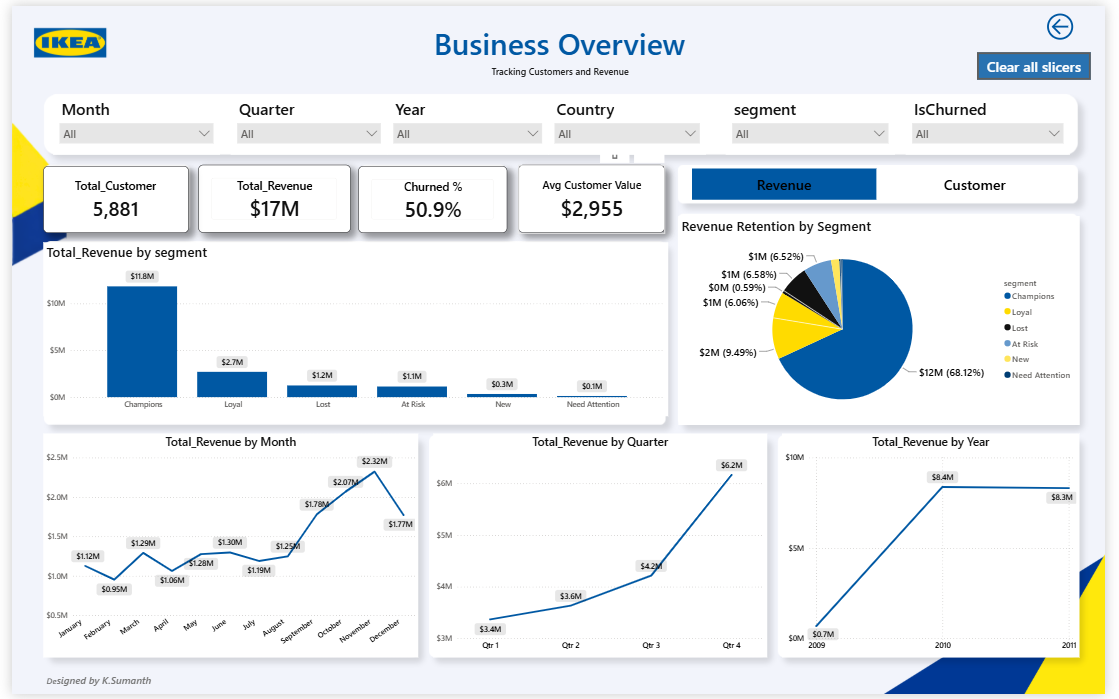

This screenshot's page, from the dashboard's own definition file:
{"tool":"powerbi","page":{"name":"Overview","canvas":[1750,1100],"ordinal":1},"visuals":[{"type":"cardVisual","fields":{"Data":["Sheet1.Total_Revenue"]},"box":[298.2,254.5,243.6,109.1],"z":0},{"type":"columnChart","fields":{"Category":["Sheet1.segment"],"Y":["Sheet1.Total_Revenue"]},"box":[50,378,1000,278],"z":0,"group":"g1"},{"type":"cardVisual","fields":{"Data":["Sheet1.Churned %"]},"box":[554.5,256.4,238.2,107.3],"z":1000},{"type":"pieChart","title":"Revenue Retention by Segment","fields":{"Category":["Sheet1.segment"],"Series":["Sheet1.IsChurned"],"Y":["Sheet1.Total_Revenue"]},"box":[1066,336,642,334],"z":1000,"group":"g1"},{"type":"cardVisual","fields":{"Data":["Sheet1.Total_Customer"]},"box":[50.9,256.4,232.7,107.3],"z":2000},{"type":"lineChart","fields":{"Y":["Sheet1.Total_Revenue"],"Category":["Sheet1.InvoiceDate.Variation.Date Hierarchy.Month"]},"box":[50,684,600,358],"z":2000,"group":"g1"},{"type":"cardVisual","fields":{"Data":["Sheet1.avg customer value"]},"box":[810.9,254.5,234.5,109.1],"z":3000},{"type":"lineChart","fields":{"Category":["Sheet1.InvoiceDate.Variation.Date Hierarchy.Year"],"Y":["Sheet1.Total_Revenue"]},"box":[1232,684,476,358],"z":3000,"group":"g1"},{"type":"slicer","fields":{"Values":["Sheet1.InvoiceDate.Variation.Date Hierarchy.Month"]},"box":[66,142,266,96],"z":4000},{"type":"lineChart","fields":{"Y":["Sheet1.Total_Revenue"],"Category":["Sheet1.InvoiceDate.Variation.Date Hierarchy.Quarter"]},"box":[674,684,534,358],"z":4000,"group":"g1"},{"type":"slicer","fields":{"Values":["Sheet1.InvoiceDate.Variation.Date Hierarchy.Quarter"]},"box":[350,142,250,96],"z":5000},{"type":"slicer","fields":{"Values":["Sheet1.InvoiceDate.Variation.Date Hierarchy.Year"]},"box":[600,142,258,96],"z":6000},{"type":"slicer","fields":{"Values":["Sheet1.Country"]},"box":[858,142,252,96],"z":7000},{"type":"slicer","fields":{"Values":["Sheet1.segment"]},"box":[1142,142,270,96],"z":8000},{"type":"slicer","fields":{"Values":["Sheet1.IsChurned"]},"box":[1430,142,262,96],"z":9000},{"type":"group","id":"g1","title":"Revenue","box":[50,336,1658,706],"z":11000},{"type":"bookmarkNavigator","box":[1088,260,600,50],"z":12000},{"type":"image","box":[18,0,150,118],"z":13000},{"type":"textbox","box":[575,22,600,142],"z":14000},{"type":"actionButton","box":[1650,6,100,54],"z":15000},{"type":"actionButton","box":[1544,74,182,44],"z":16000},{"type":"textbox","title":"Tracking Customers and Revenue","box":[762,94,414,24],"z":17000},{"type":"textbox","box":[50,1062,550,38],"z":18000}]}

Visuals, with their boxes in screenshot pixels (x1, y1, x2, y2), scaled from the page's 1750x1100 canvas onto the 1119x699 screenshot:
cardVisual - Sheet1.Total_Revenue: [left=191, top=162, right=346, bottom=231]
columnChart - Sheet1.segment x Sheet1.Total_Revenue: [left=32, top=240, right=671, bottom=417]
cardVisual - Sheet1.Churned %: [left=355, top=163, right=507, bottom=231]
"Revenue Retention by Segment" pieChart: [left=682, top=214, right=1092, bottom=426]
cardVisual - Sheet1.Total_Customer: [left=33, top=163, right=181, bottom=231]
lineChart - Sheet1.Total_Revenue x Sheet1.InvoiceDate.Variation.Date Hierarchy.Month: [left=32, top=435, right=416, bottom=662]
cardVisual - Sheet1.avg customer value: [left=519, top=162, right=668, bottom=231]
lineChart - Sheet1.InvoiceDate.Variation.Date Hierarchy.Year x Sheet1.Total_Revenue: [left=788, top=435, right=1092, bottom=662]
slicer - Sheet1.InvoiceDate.Variation.Date Hierarchy.Month: [left=42, top=90, right=212, bottom=151]
lineChart - Sheet1.Total_Revenue x Sheet1.InvoiceDate.Variation.Date Hierarchy.Quarter: [left=431, top=435, right=772, bottom=662]
slicer - Sheet1.InvoiceDate.Variation.Date Hierarchy.Quarter: [left=224, top=90, right=384, bottom=151]
slicer - Sheet1.InvoiceDate.Variation.Date Hierarchy.Year: [left=384, top=90, right=549, bottom=151]
slicer - Sheet1.Country: [left=549, top=90, right=710, bottom=151]
slicer - Sheet1.segment: [left=730, top=90, right=903, bottom=151]
slicer - Sheet1.IsChurned: [left=914, top=90, right=1082, bottom=151]
"Revenue" group: [left=32, top=214, right=1092, bottom=662]
bookmarkNavigator: [left=696, top=165, right=1079, bottom=197]
image: [left=12, top=0, right=107, bottom=75]
textbox: [left=368, top=14, right=751, bottom=104]
actionButton: [left=1055, top=4, right=1118, bottom=38]
actionButton: [left=987, top=47, right=1104, bottom=75]
"Tracking Customers and Revenue" textbox: [left=487, top=60, right=752, bottom=75]
textbox: [left=32, top=675, right=384, bottom=698]
